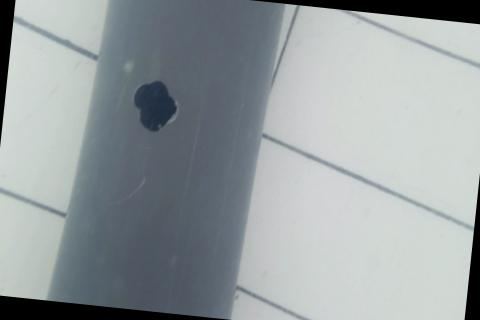kebocoran: (128, 74, 182, 139)
